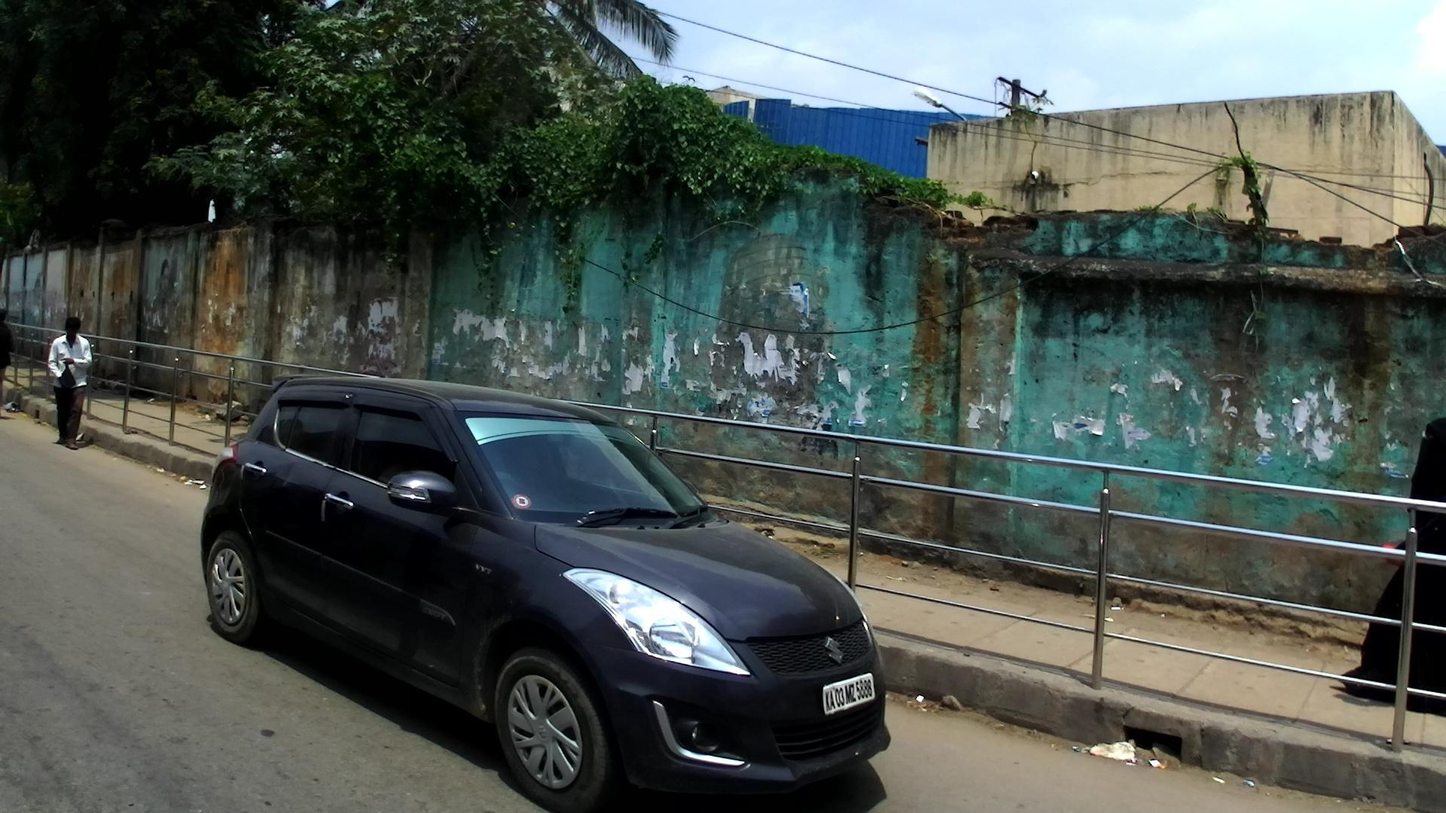streetlight: (913, 86, 966, 121)
